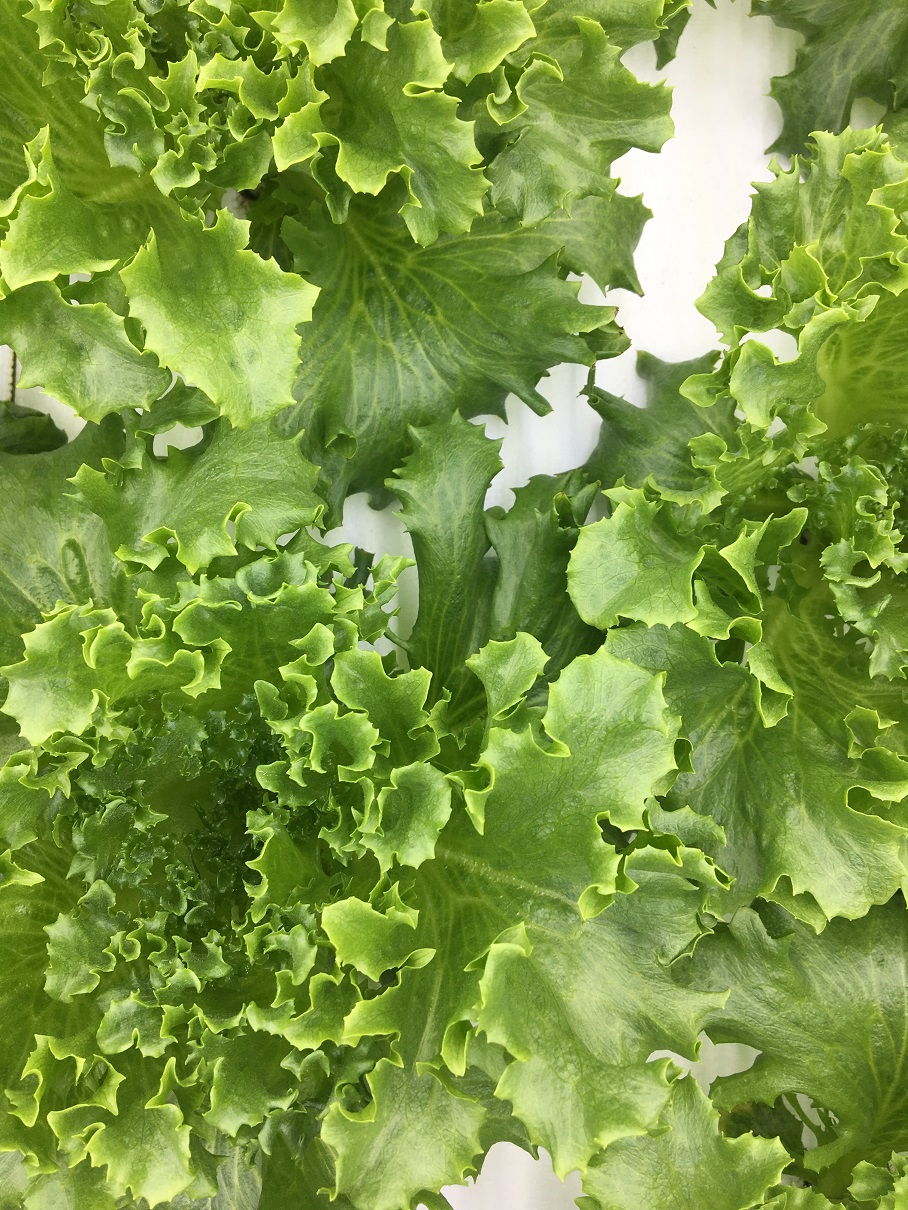tipburn: (608, 299, 627, 320), (616, 323, 633, 342)
